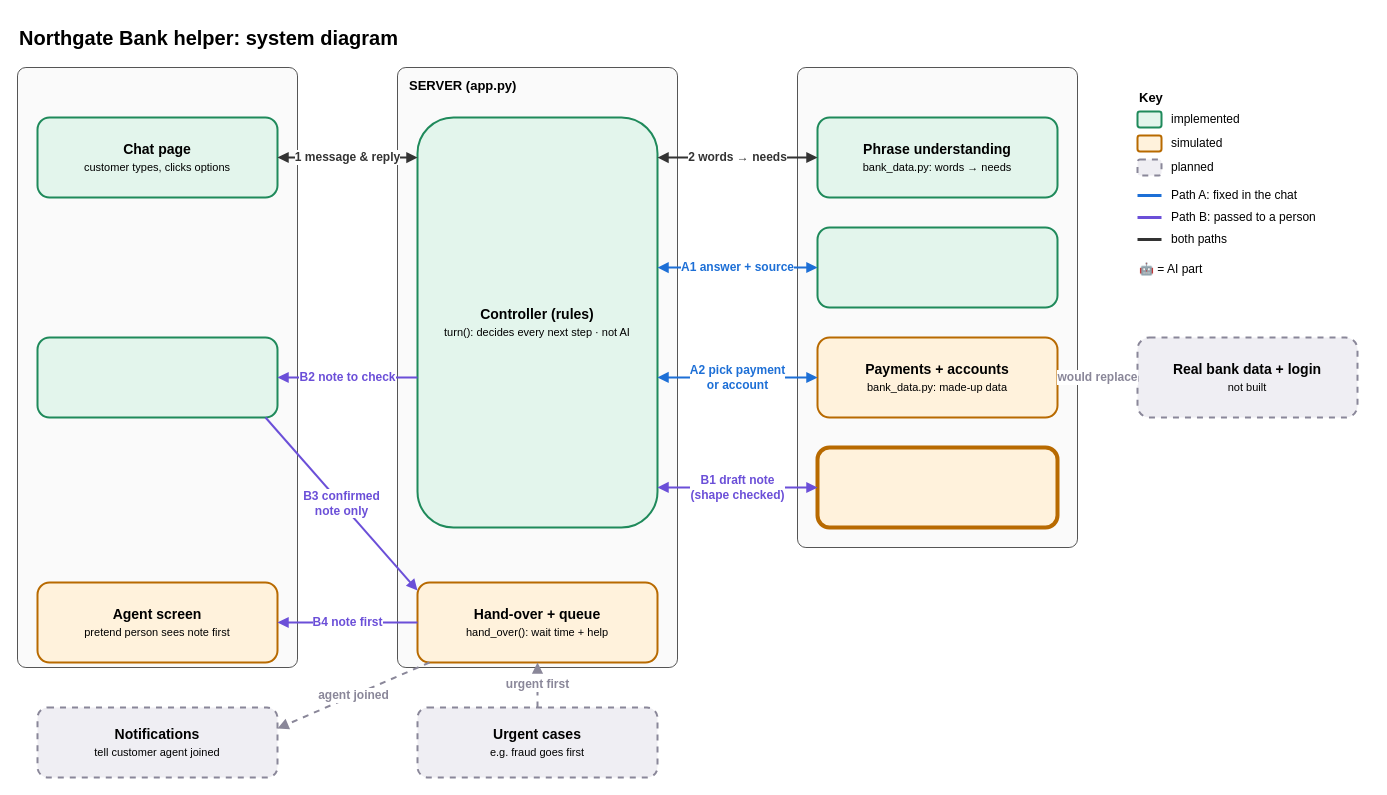
This 1387x795 diagram has some shape labels left out. The box of each missing label's shape, as (x1, y1, x2, y2) in pixels:
CUSTOMER'S WEB PAGE (index.html): (16, 66, 298, 668)
Help pages corpus/ + retrieve.py: only answers: (816, 226, 1058, 308)
HELPERS: (796, 66, 1078, 548)
Note card Yes / Change before hand-over: (36, 336, 278, 418)
🤖 AI note drafter model.py: recorded replies: (815, 445, 1059, 529)
